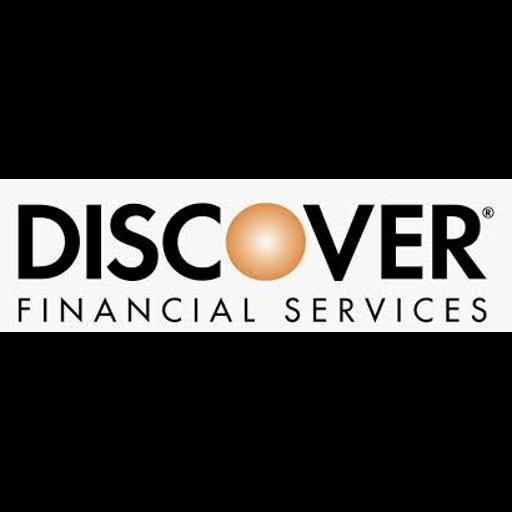Discover: (0, 179, 512, 332)
